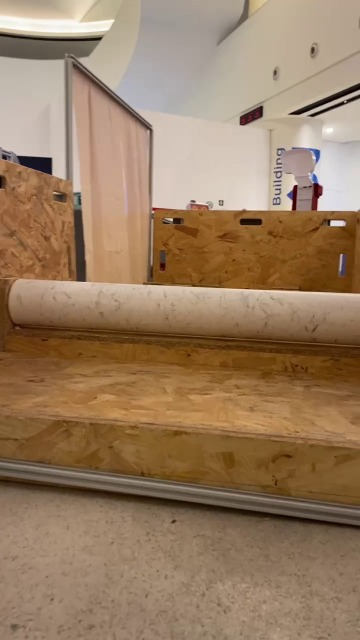curtain: (65, 58, 155, 288)
